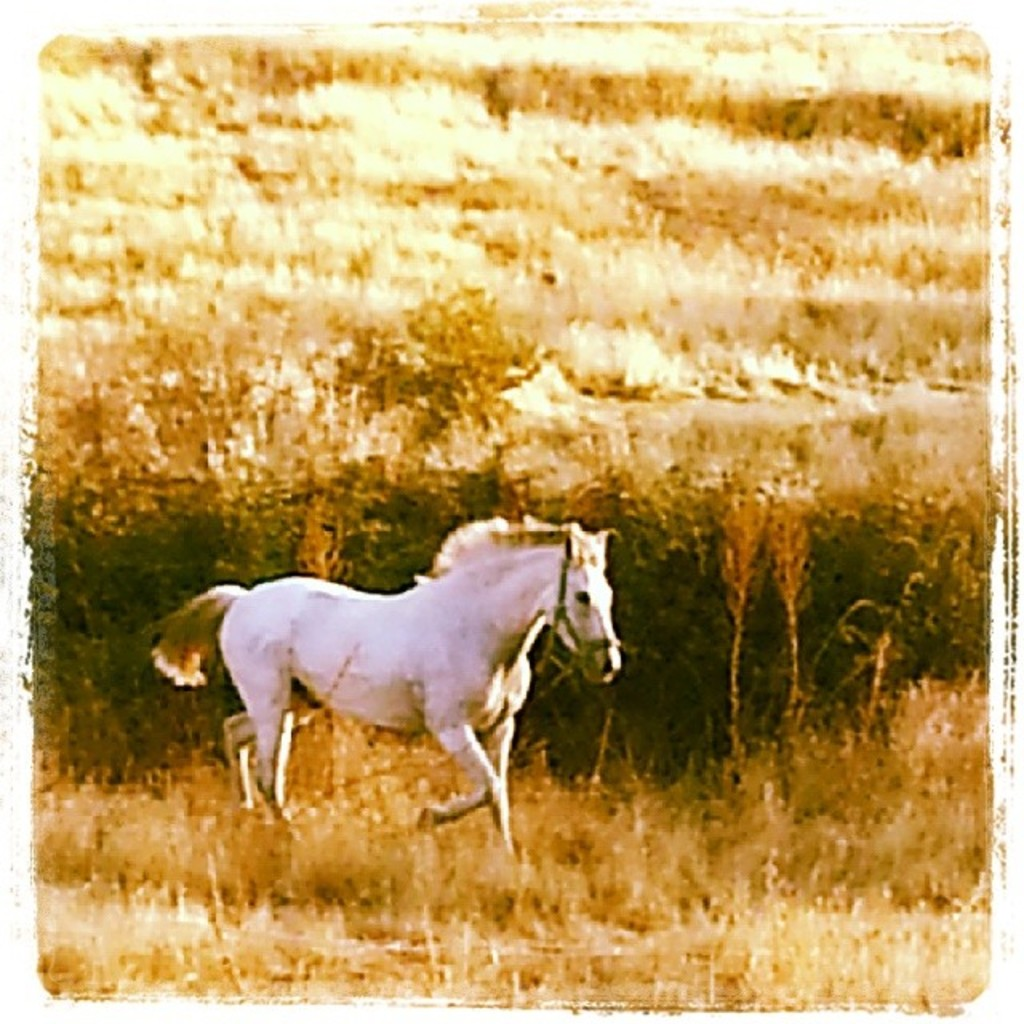horse: (137, 521, 622, 856)
